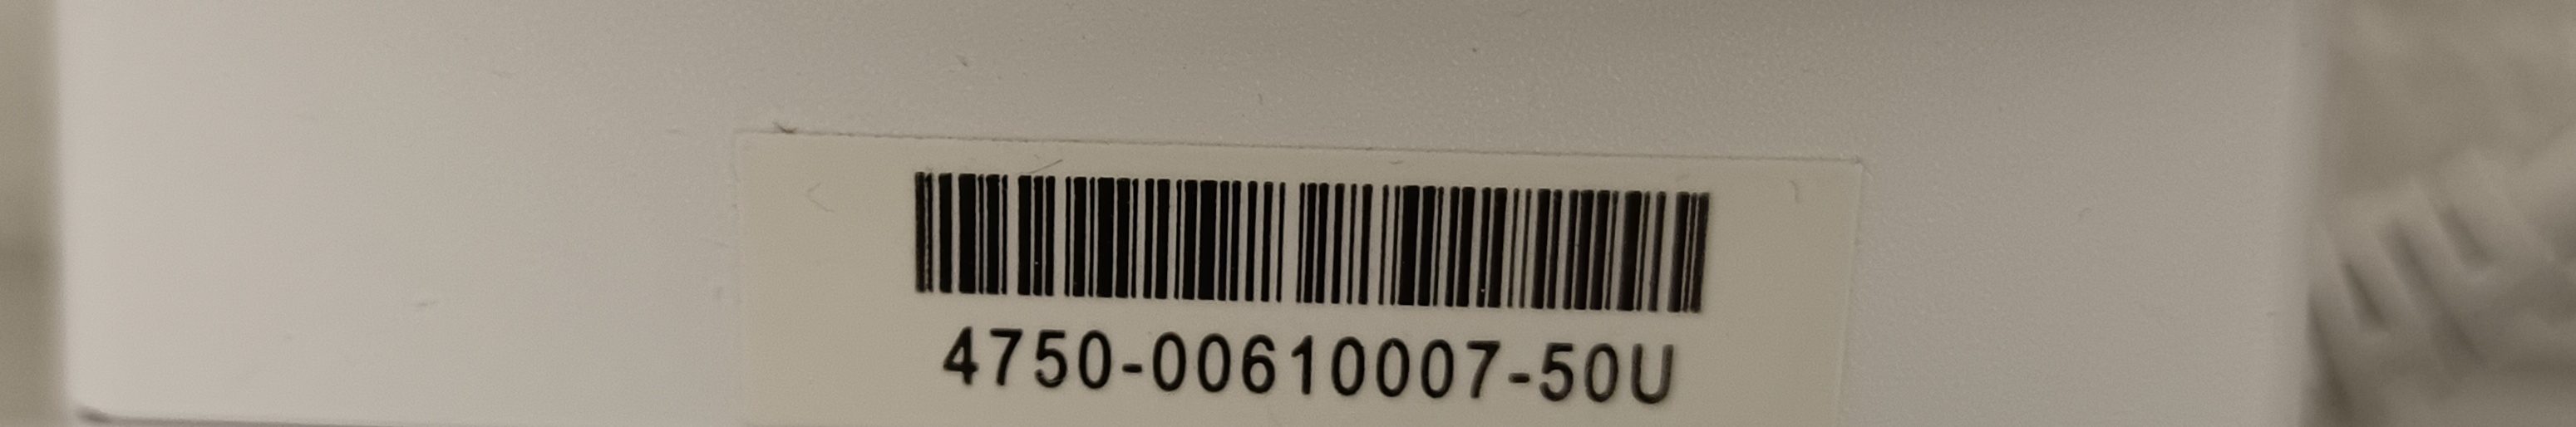1d: (915, 161, 1714, 310)
